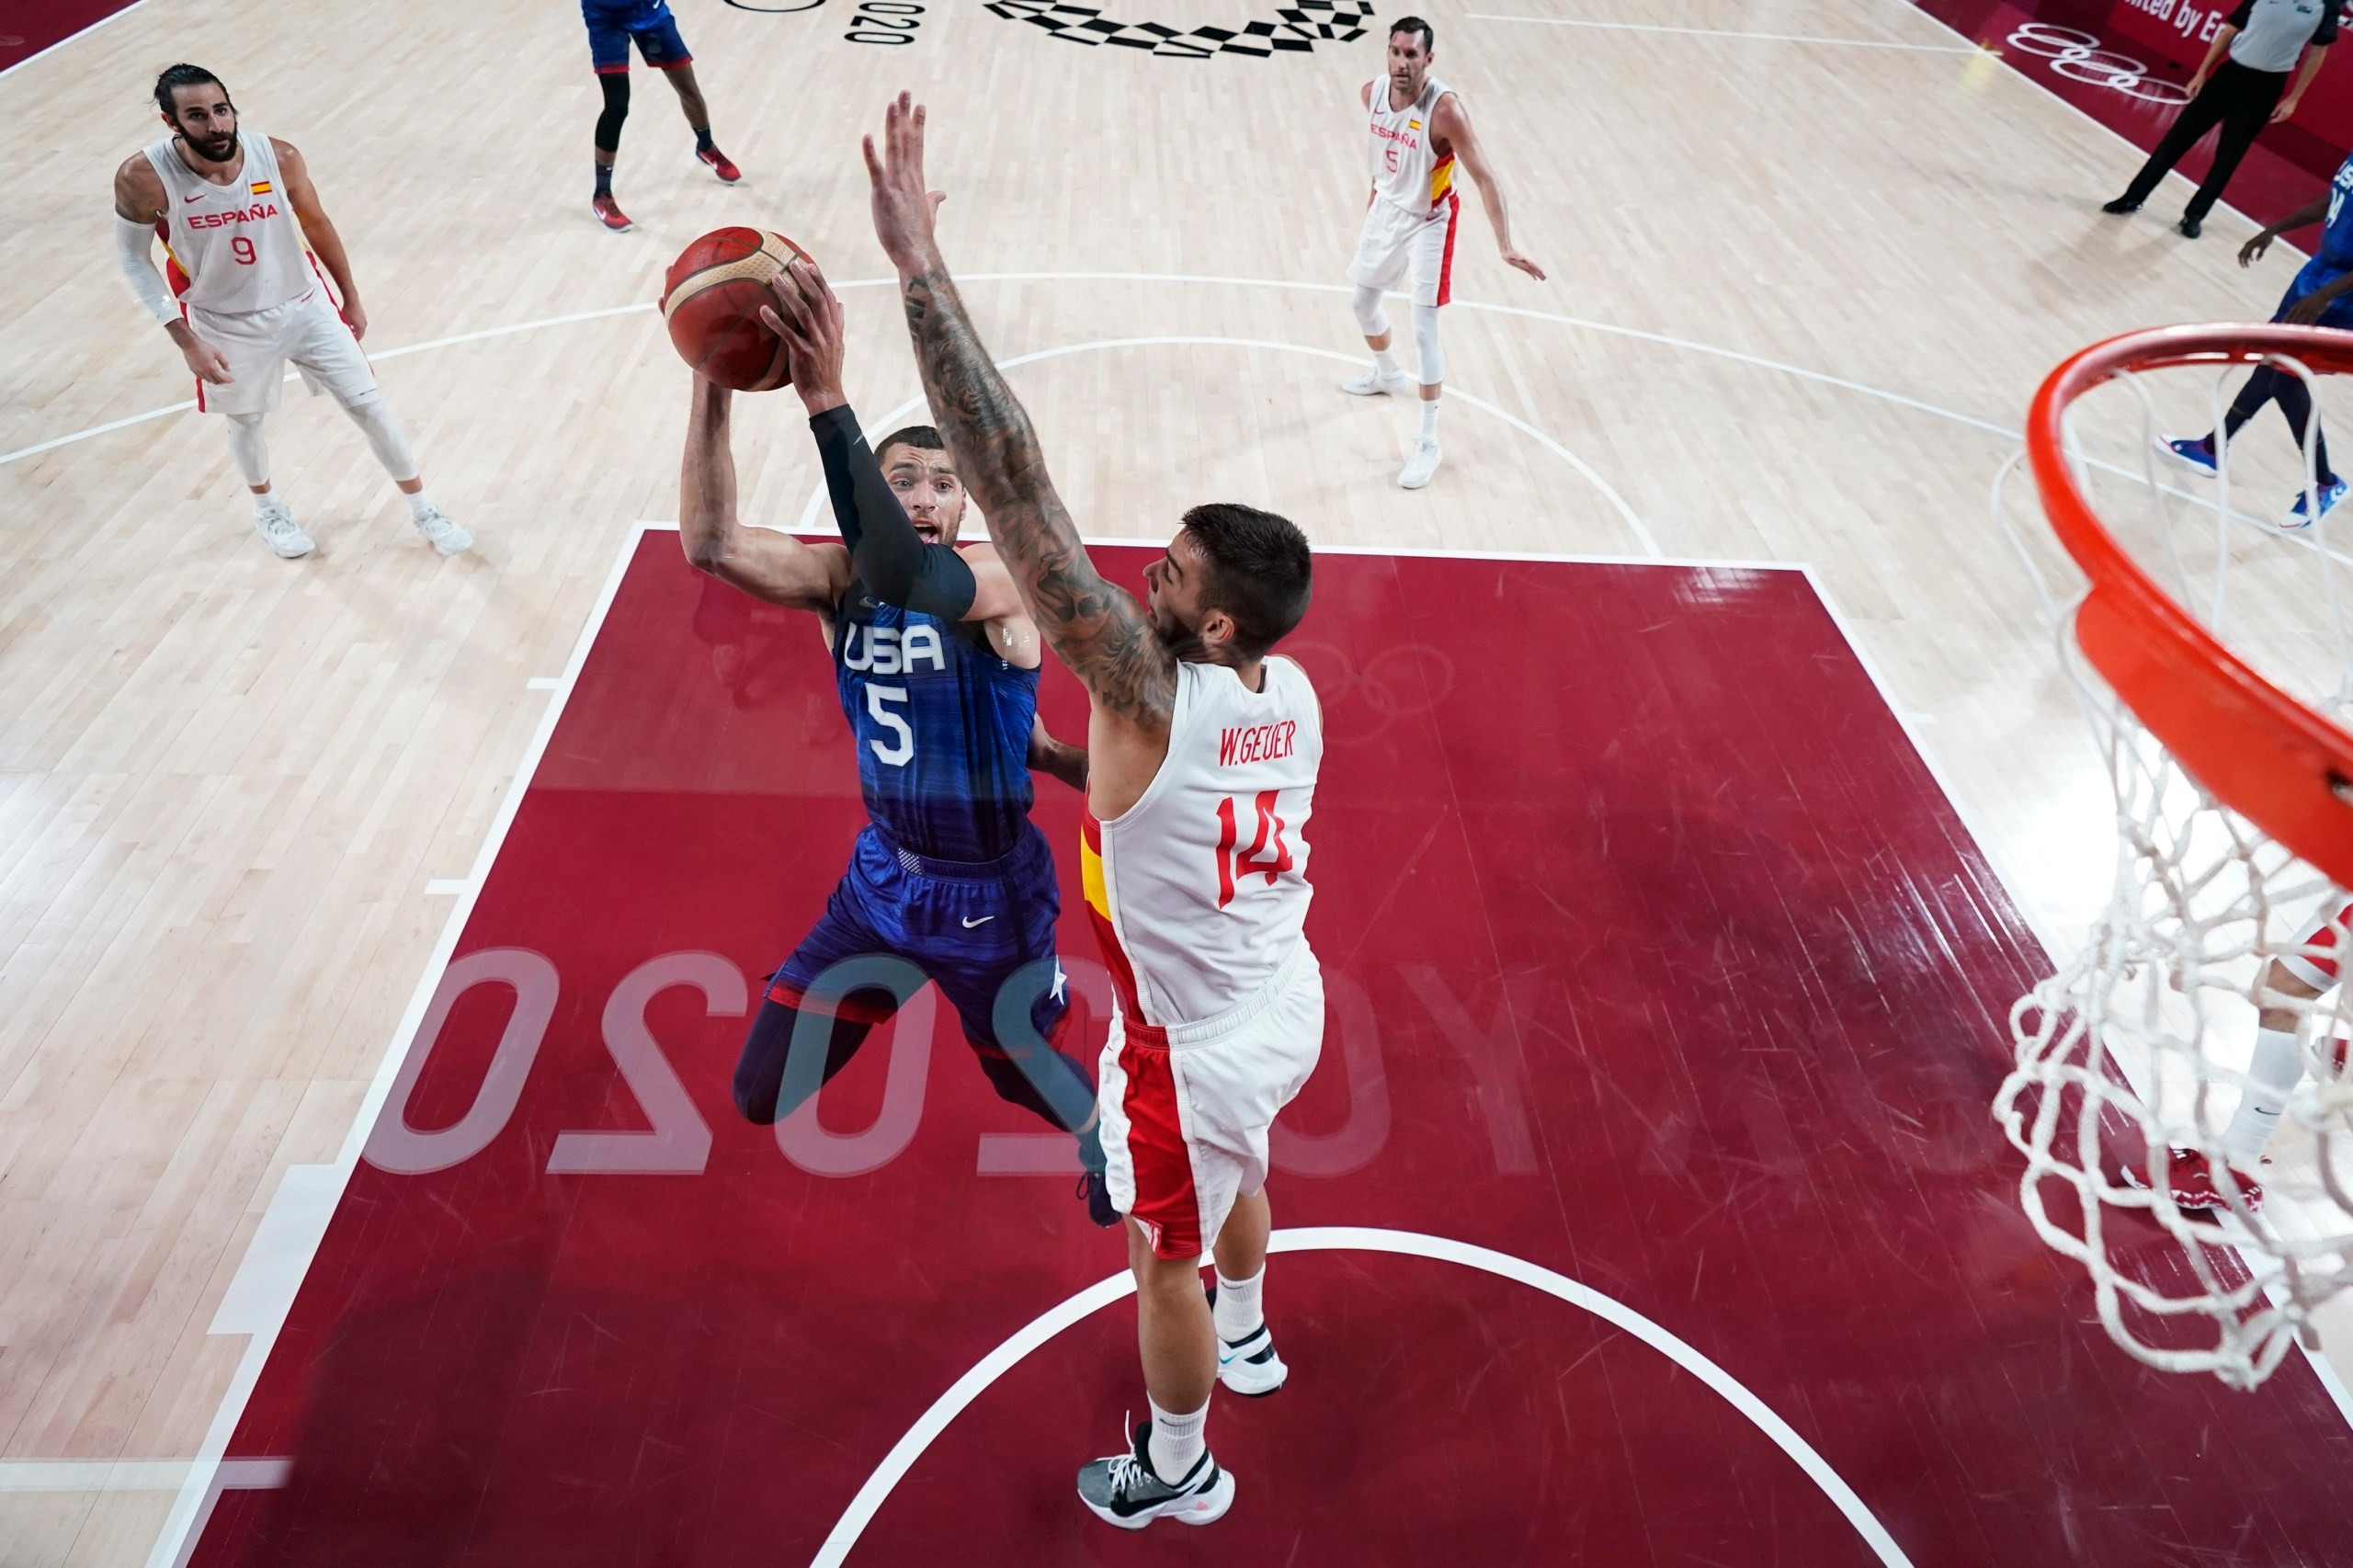basketball: (663, 226, 842, 397)
referee: (2109, 1, 2353, 236)
spain_player: (1056, 478, 1323, 1528), (107, 61, 468, 559), (1338, 9, 1499, 489)
usa_player: (744, 413, 1063, 1145), (2163, 135, 2353, 525), (589, 1, 724, 235)
